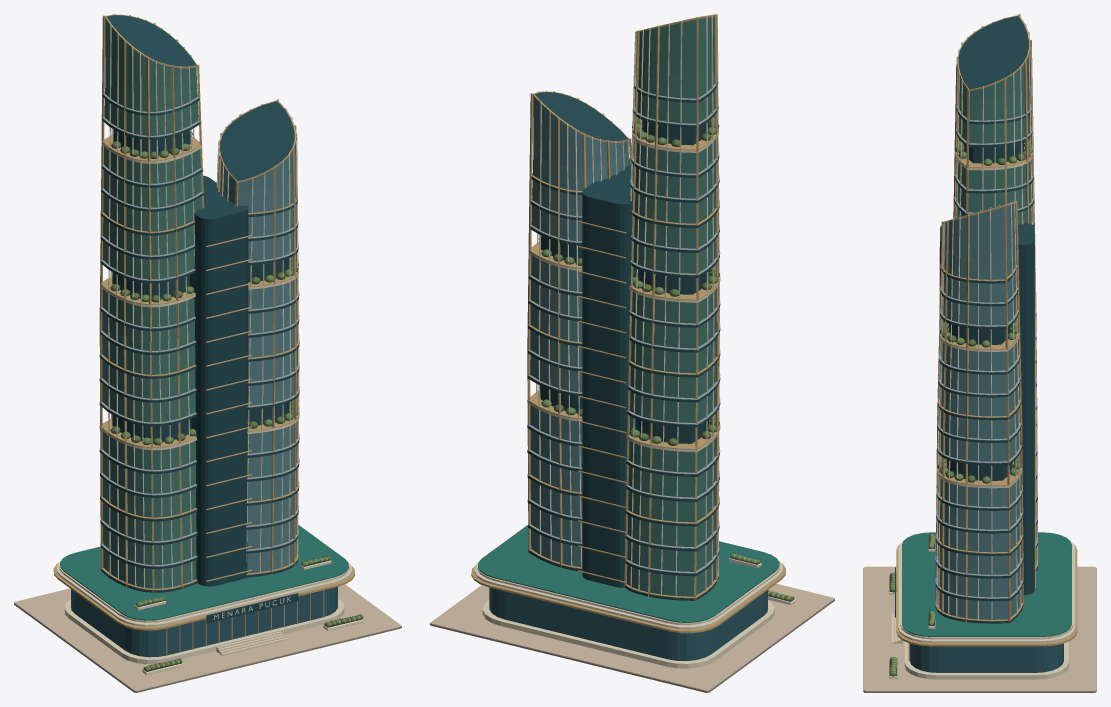
3 views of the same model, side by side, from view 1: azimuth 30°, elevation 25°; view 2: azimuth 150°, elevation 25°; view 3: azimuth 270°, elevation 25° (orthographic). The views are drawn at different scales.
Parts seen in each view (by area): view 1: Twin Leaf Offices, Street Podium, Solar Fins, Lantern Crowns, Garden Floors; view 2: Twin Leaf Offices, Street Podium, Solar Fins, Lantern Crowns, Garden Floors; view 3: Twin Leaf Offices, Street Podium, Solar Fins, Lantern Crowns, Garden Floors.
Boxes of the visible parts, x1=… form: Twin Leaf Offices: x1=99, y1=73, x2=299, y2=592; Street Podium: x1=14, y1=524, x2=401, y2=692; Solar Fins: x1=99, y1=14, x2=299, y2=592; Lantern Crowns: x1=105, y1=14, x2=296, y2=192; Garden Floors: x1=110, y1=131, x2=331, y2=610; Twin Leaf Offices: x1=527, y1=62, x2=720, y2=600; Street Podium: x1=430, y1=524, x2=834, y2=692; Solar Fins: x1=527, y1=14, x2=719, y2=600; Lantern Crowns: x1=533, y1=14, x2=714, y2=168; Garden Floors: x1=538, y1=117, x2=761, y2=568; Twin Leaf Offices: x1=935, y1=89, x2=1037, y2=623; Street Podium: x1=863, y1=532, x2=1096, y2=692; Solar Fins: x1=935, y1=14, x2=1038, y2=623; Lantern Crowns: x1=943, y1=15, x2=1030, y2=259; Garden Floors: x1=928, y1=138, x2=1036, y2=628.
Size of the model in its own units: 43 by 92.93 by 34.
